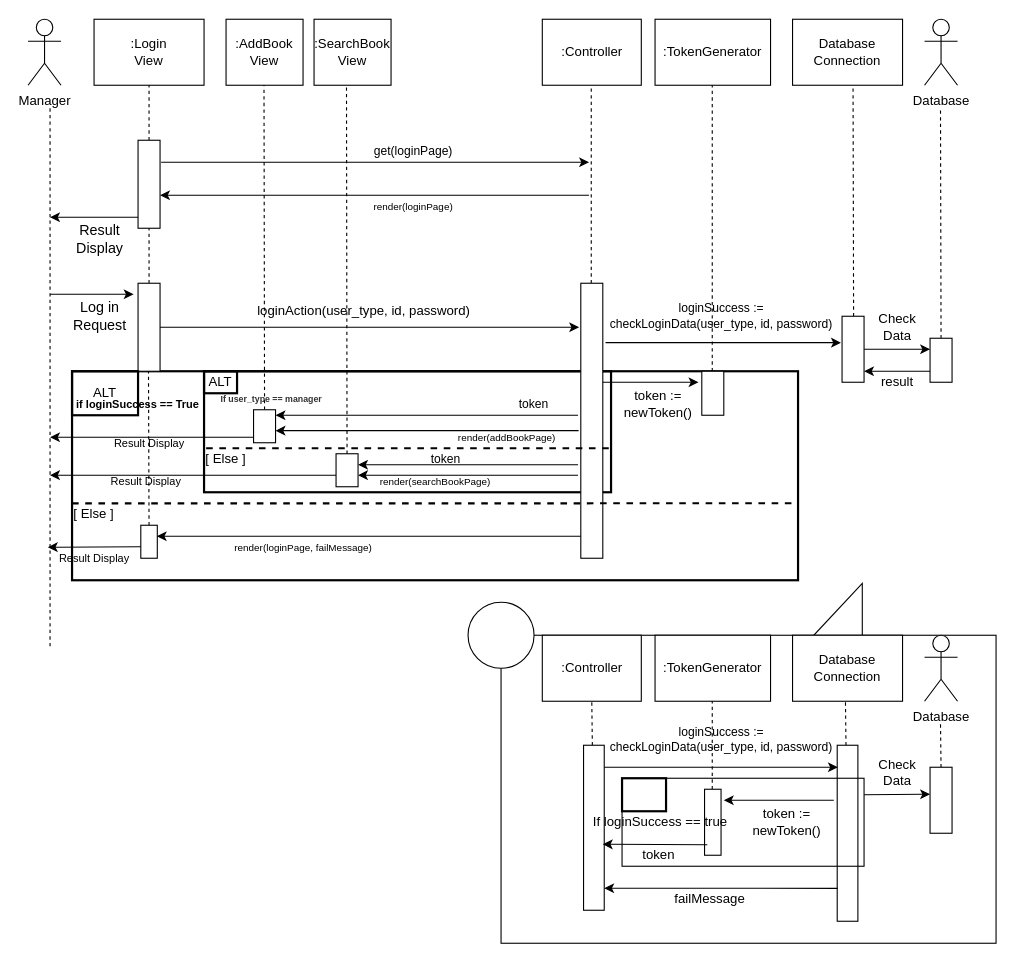
This 1015x963 diagram has some shape labels left out. The centre of each missing label's shape, as x and y in pixels:
"OPT" goes at point (643, 794).
"V1" goes at point (500, 634).
